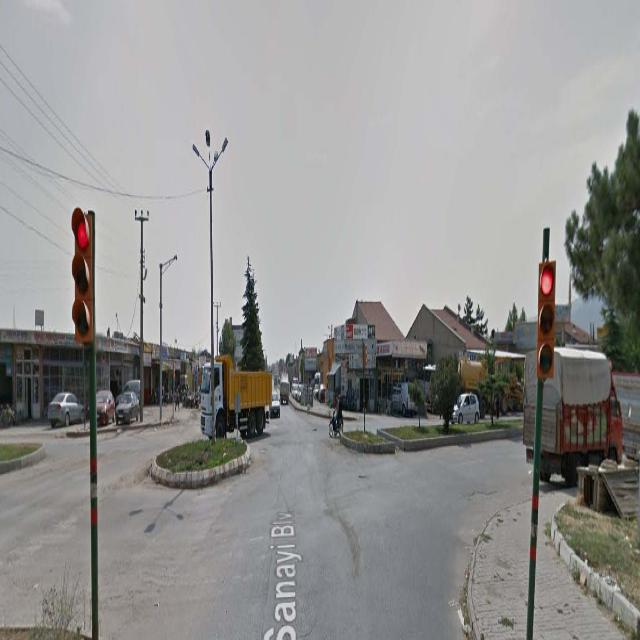kirmizi: (71, 209, 90, 331), (540, 260, 552, 376)
